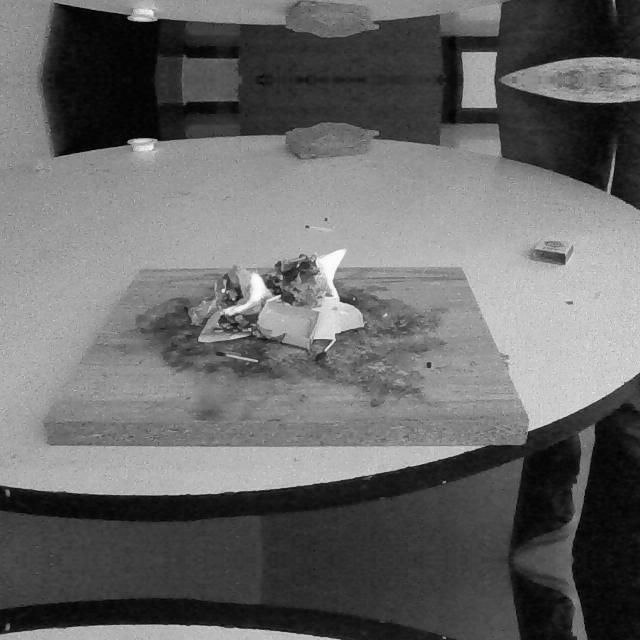smoke: (217, 270, 275, 316), (314, 244, 346, 302)
